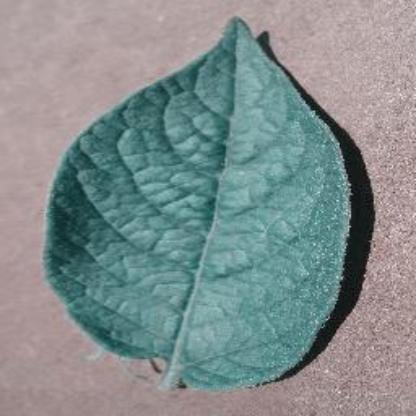Healthy-plant: (23, 13, 393, 398)
